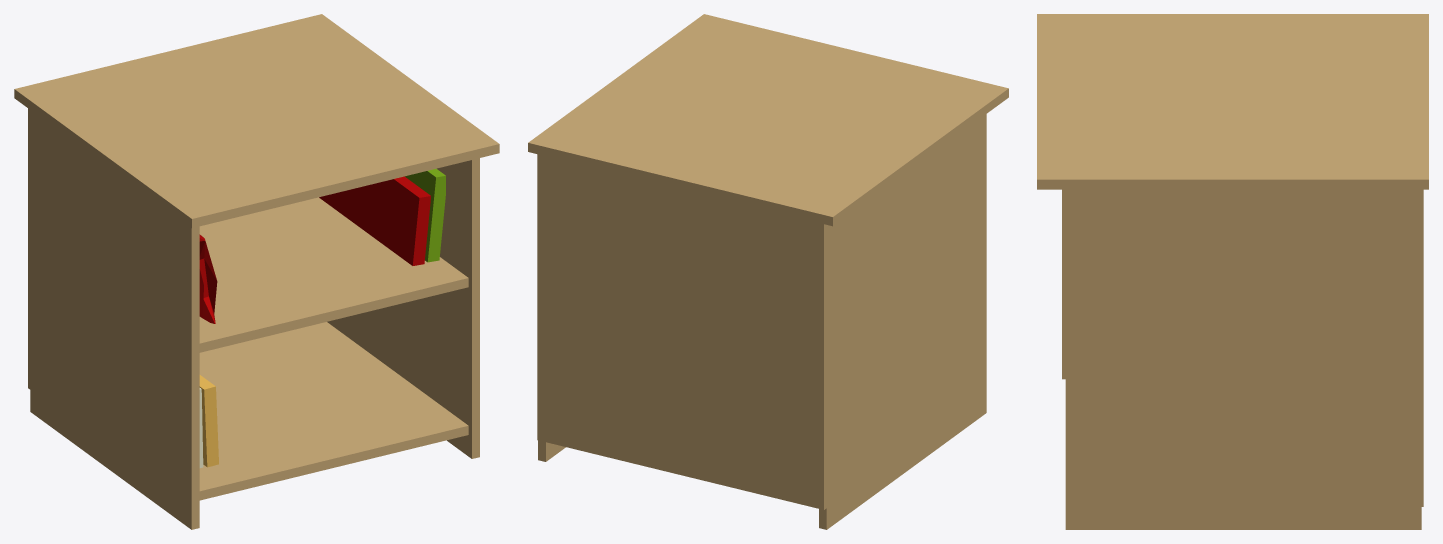
File: sh-contrib-smallbookshelves.glb
3 views of the same model, side by side, from view 1: azimuth 30°, elevation 25°; view 2: azimuth 150°, elevation 25°; view 3: azimuth 270°, elevation 25° (orthographic). The views are drawn at different scales.
Parts seen in each view (by area): view 1: left_side, red_book, green_book, orange_book; view 2: left_side; view 3: left_side.
Part boxes in pixels (left/top/right/bottom): left_side: left=14, top=14, right=499, bottom=529; red_book: left=199, top=176, right=430, bottom=323; green_book: left=405, top=168, right=445, bottom=262; orange_book: left=199, top=375, right=218, bottom=467; left_side: left=528, top=14, right=1008, bottom=529; left_side: left=1037, top=14, right=1428, bottom=529.
Bounding box in the file's own units: 1 × 1 × 1.
